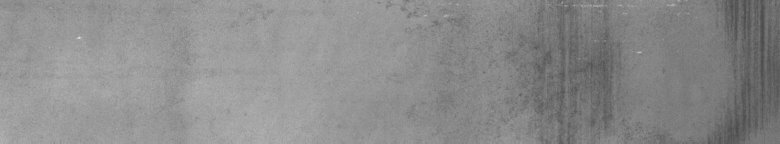ka: (524, 4, 775, 133)
